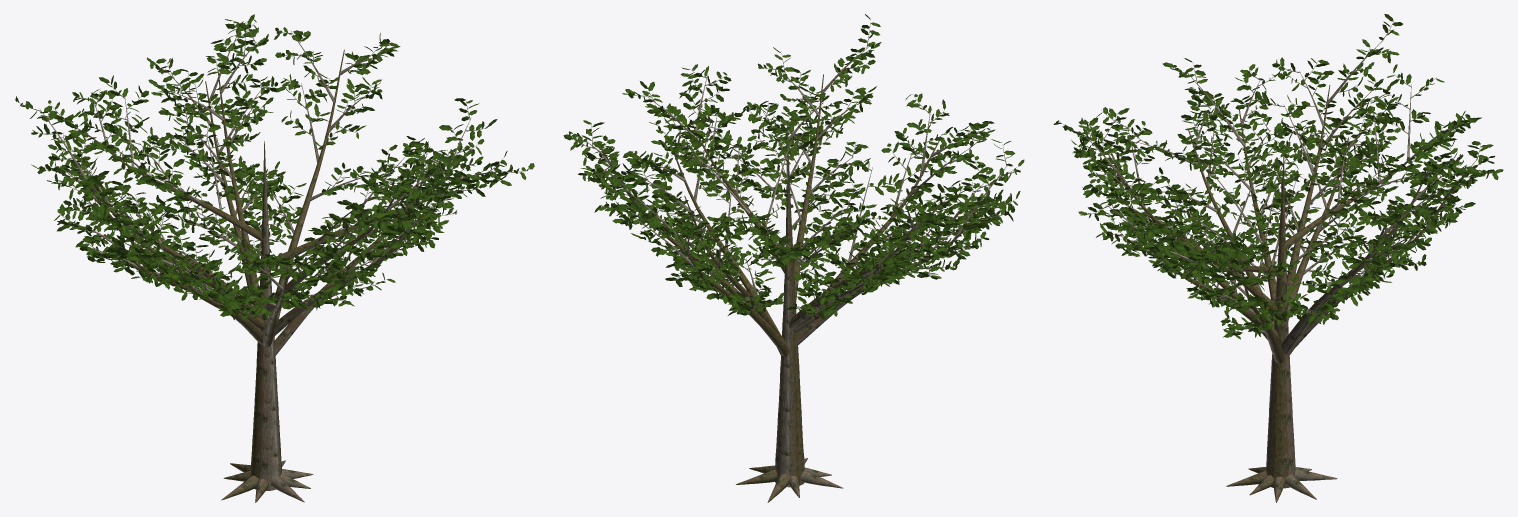
The model's file is oak_spreading_lod1.gltf.
3 renders of one model, left to right at view 1: azimuth 30°, elevation 25°; view 2: azimuth 150°, elevation 25°; view 3: azimuth 270°, elevation 25°, orthographic. The views are drawn at different scales.
Parts seen in each view (by area): view 1: oak_spreading_lod1; view 2: oak_spreading_lod1; view 3: oak_spreading_lod1.
Part boxes in pixels (x1=…): oak_spreading_lod1: x1=14, y1=14, x2=534, y2=502; oak_spreading_lod1: x1=563, y1=14, x2=1024, y2=502; oak_spreading_lod1: x1=1053, y1=14, x2=1503, y2=502.
Size of the model in its own units: 9.63 by 8.72 by 9.4.
Materials: 3 (3 with a texture image).
